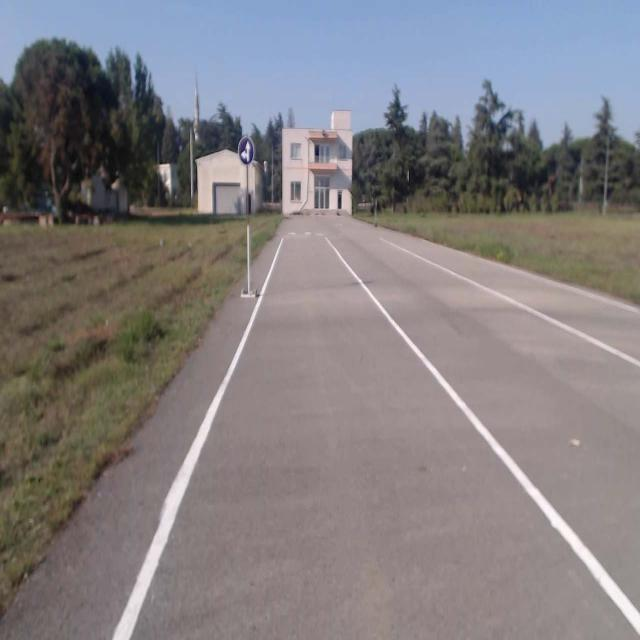ilerisol: (238, 135, 254, 165)
